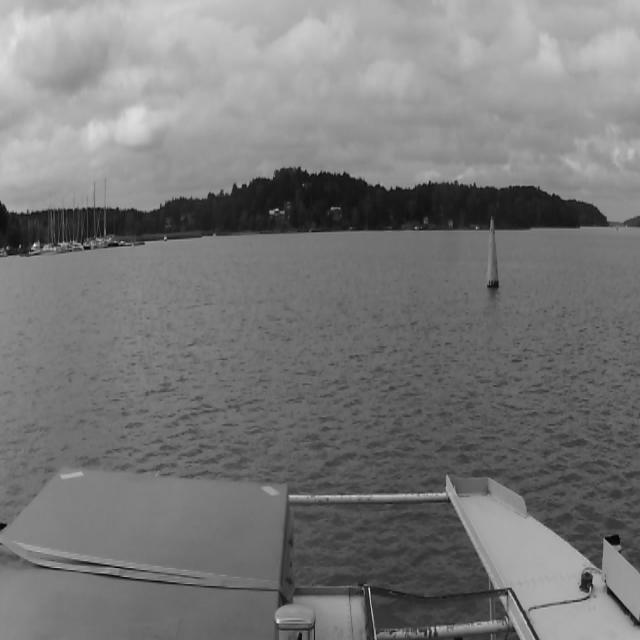buoy: (486, 216, 499, 290)
